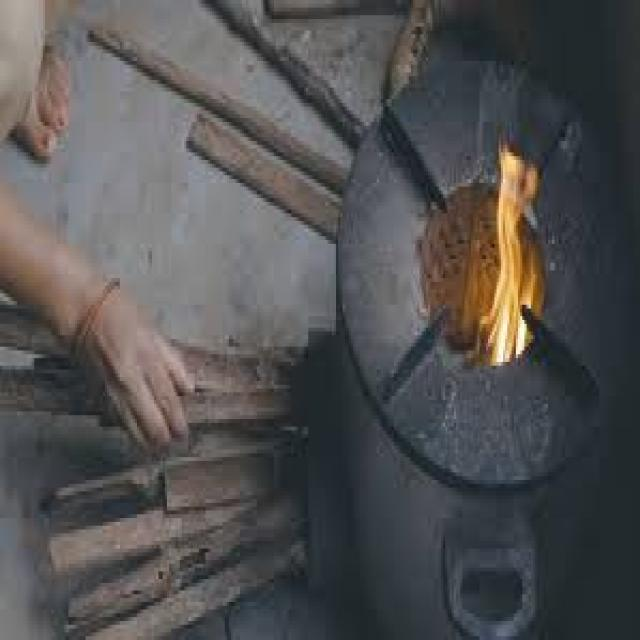fire: (474, 137, 538, 368)
